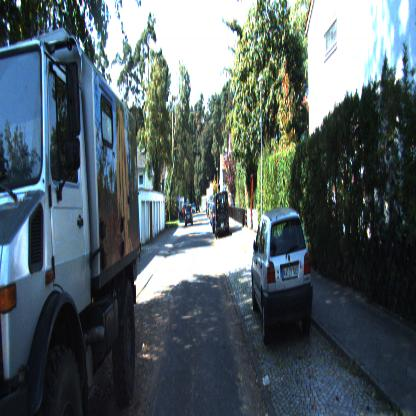car: (253, 209, 313, 338)
